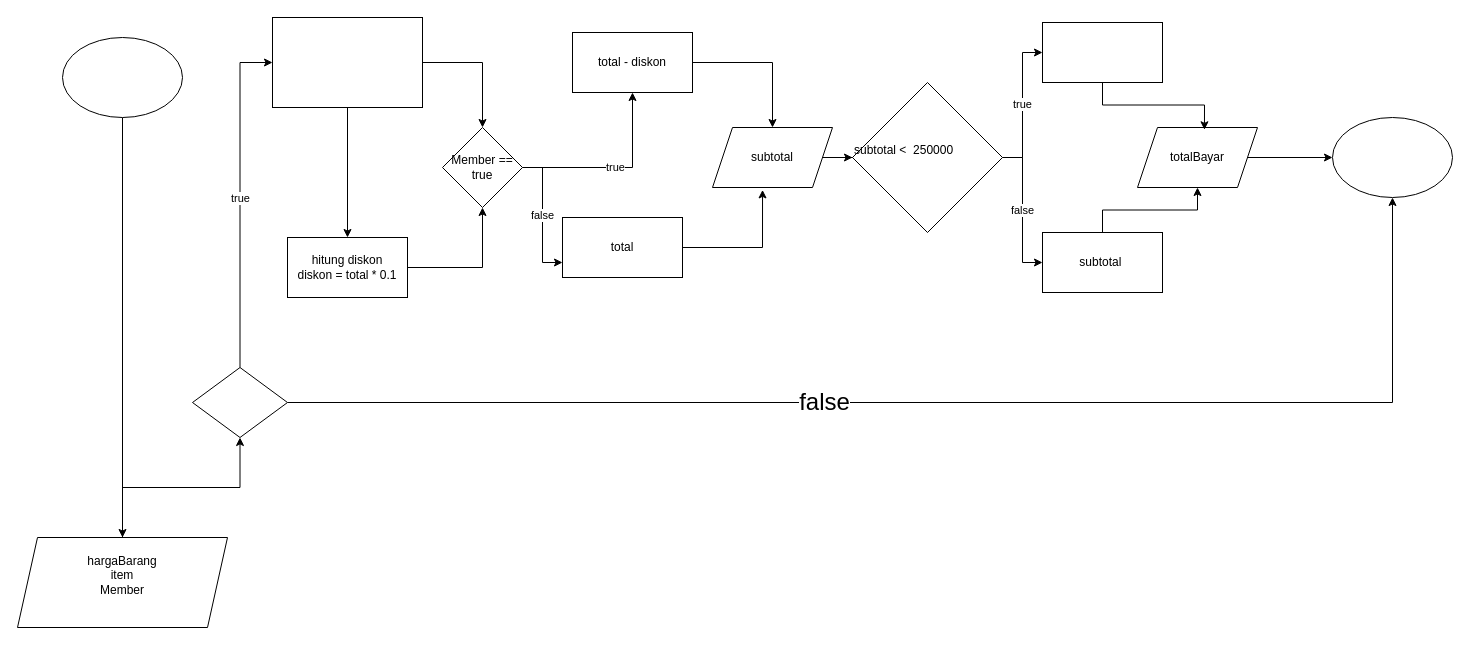
Some shapes in this 1470 by 645 pixel diagram are drawn without their labels. The centre of each missing label's shape, as x and y in pixels:
"END" goes at (x=1392, y=157).
"hitung total total = hargaBarang * item" goes at (x=347, y=62).
"input = valid?" goes at (x=240, y=402).
"START" goes at (x=122, y=77).
"subtotal + 15000" goes at (x=1102, y=52).
